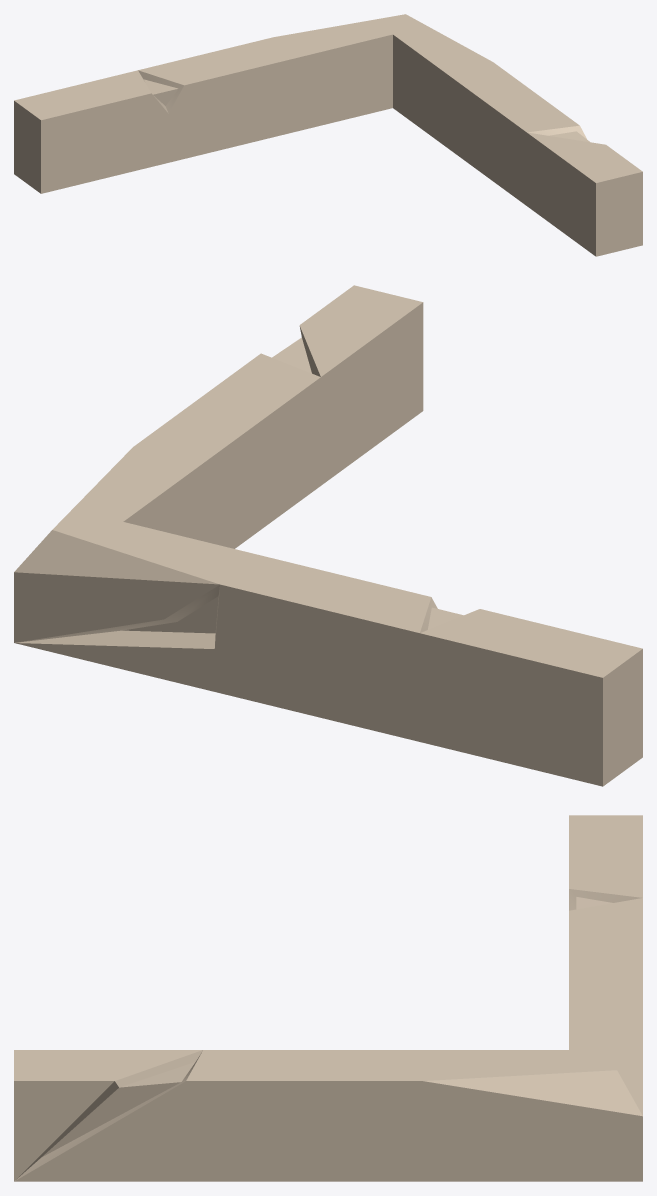
The model's file is Ceiling_Border_Corner_001.fbx.
3 views of the same model, one above another, from view 1: azimuth 30°, elevation 25°; view 2: azimuth 150°, elevation 25°; view 3: azimuth 270°, elevation 25° (orthographic). The views are drawn at different scales.
Visible parts, largest first — view 1: Ceiling_Border_Corner_001; view 2: Ceiling_Border_Corner_001; view 3: Ceiling_Border_Corner_001.
Part boxes in pixels (x1=…): Ceiling_Border_Corner_001: x1=14, y1=14, x2=642, y2=256; Ceiling_Border_Corner_001: x1=14, y1=285, x2=642, y2=786; Ceiling_Border_Corner_001: x1=14, y1=815, x2=642, y2=1181.
Bounding box in the file's own units: 3.4 × 0.6 × 3.4.
